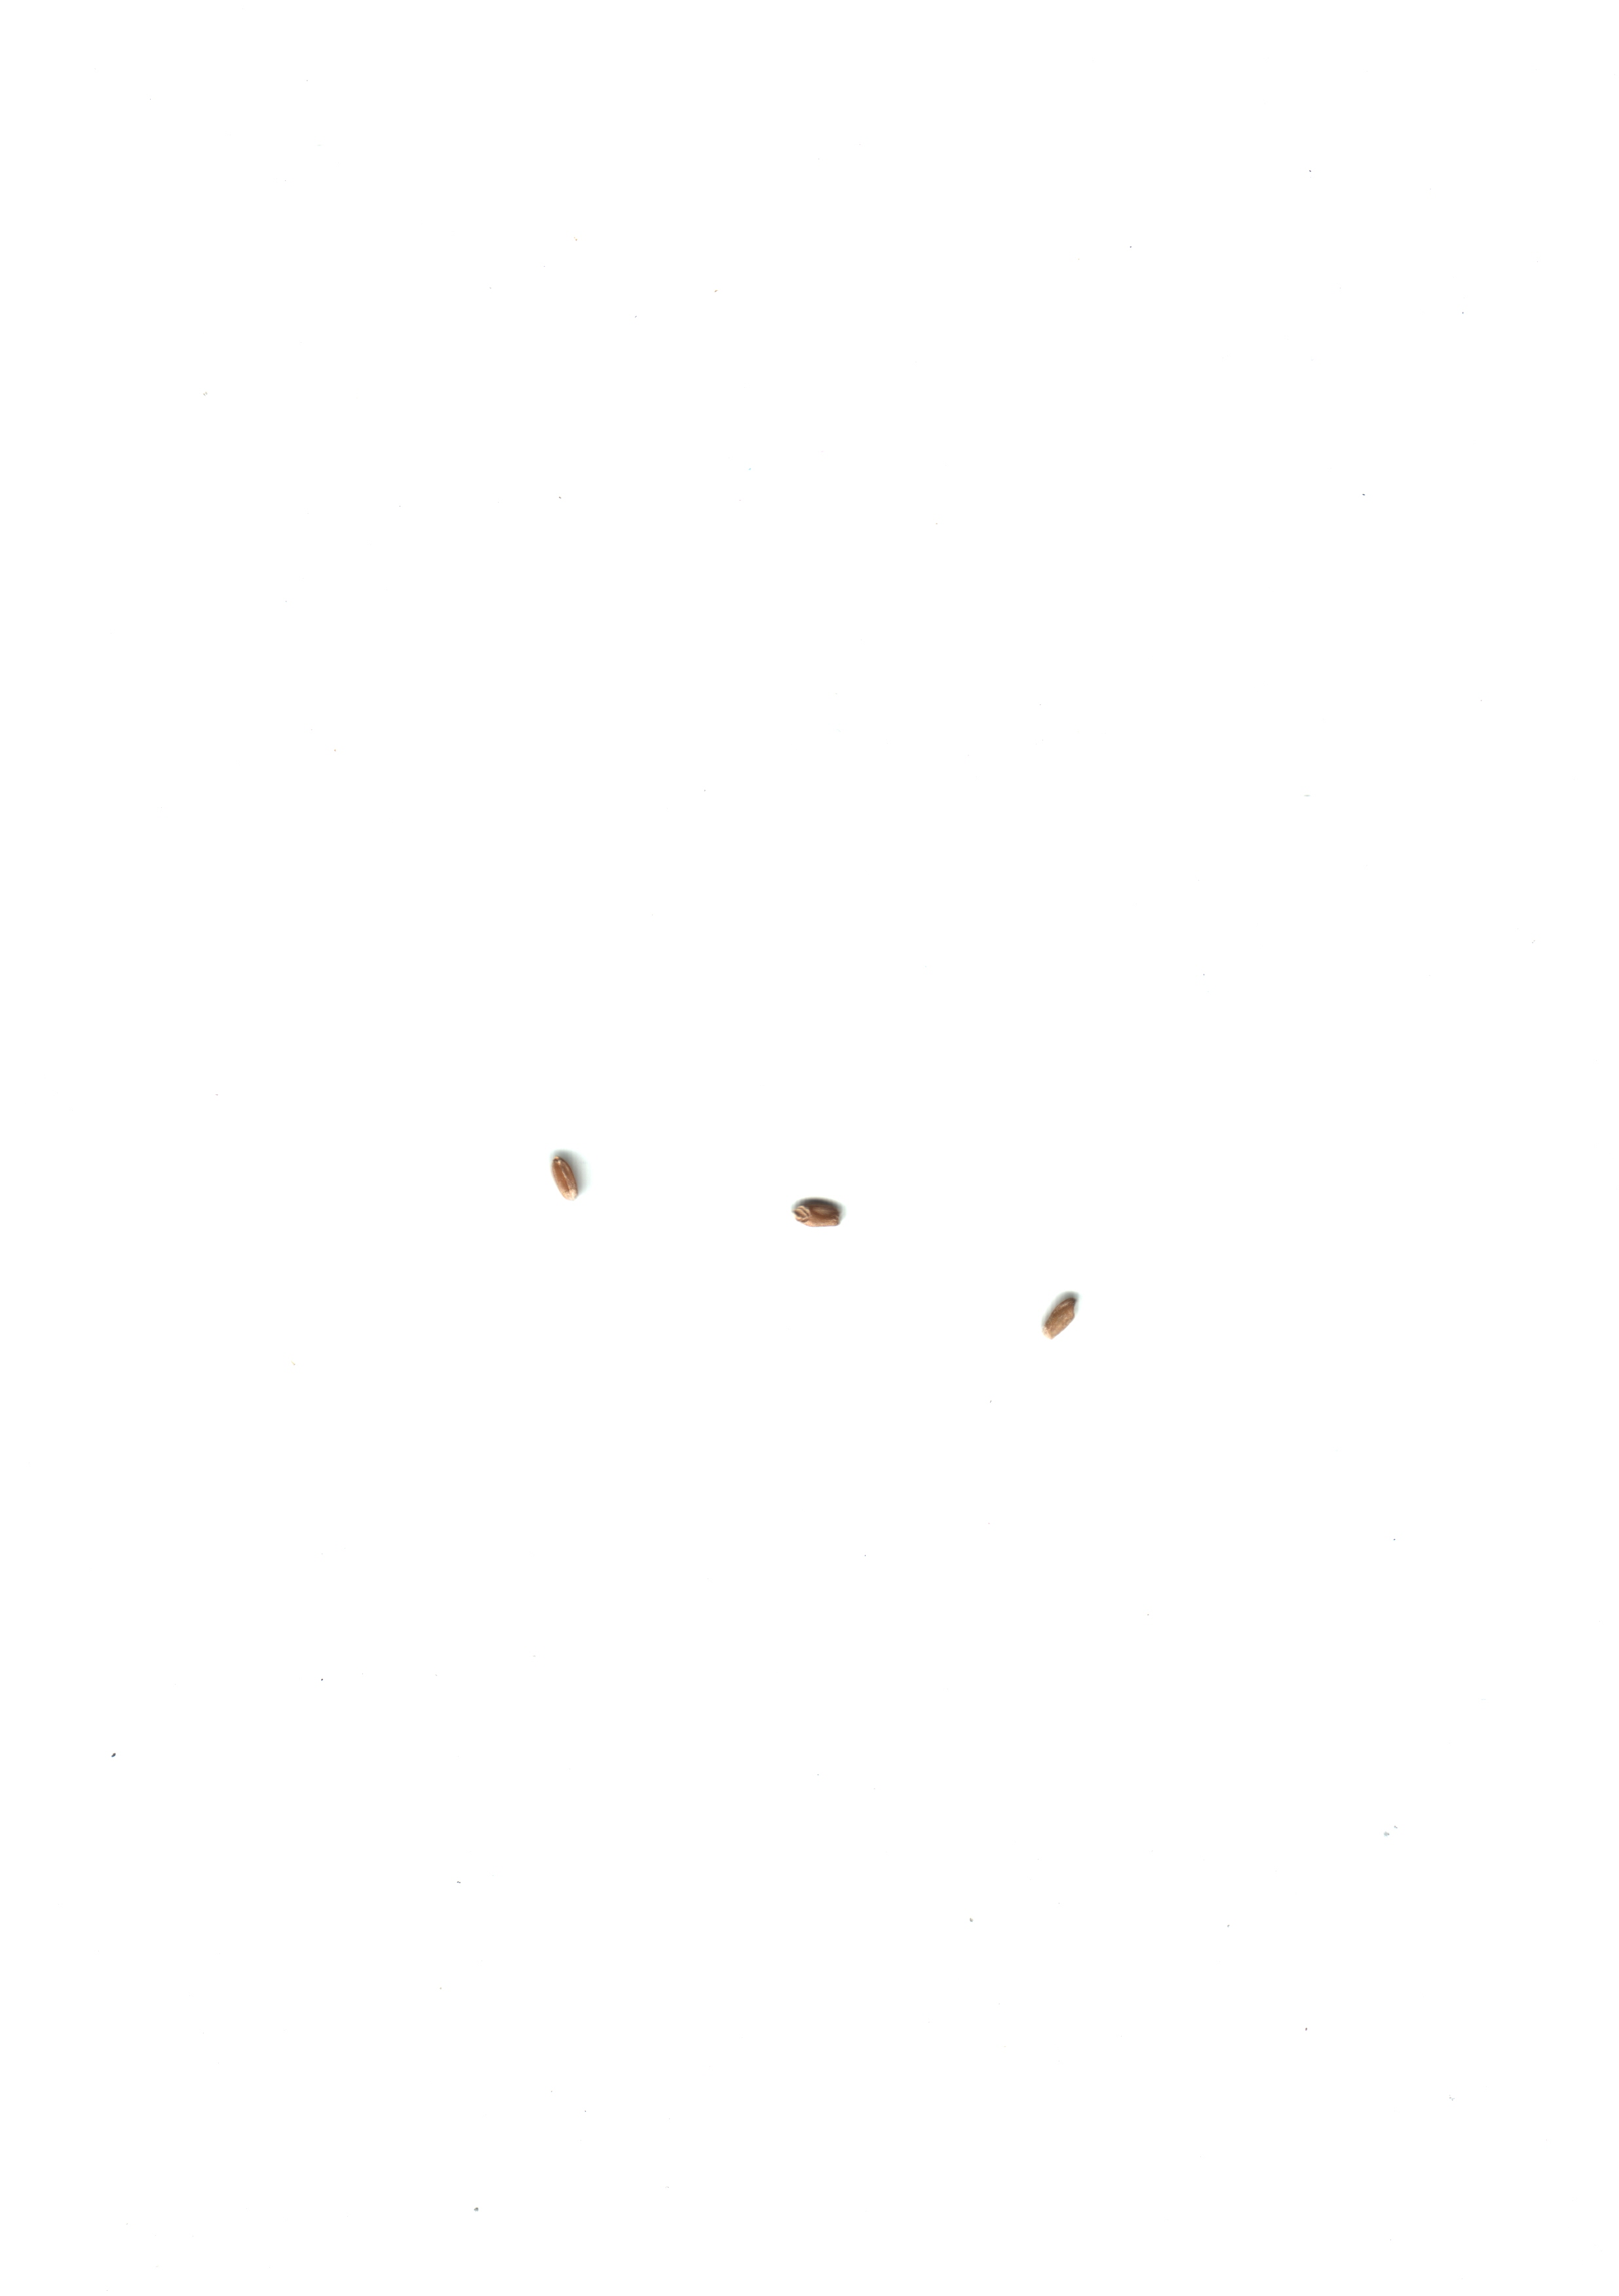grains_3mm: (778, 1167, 873, 1255), (1013, 1274, 1107, 1360), (522, 1130, 617, 1216)
